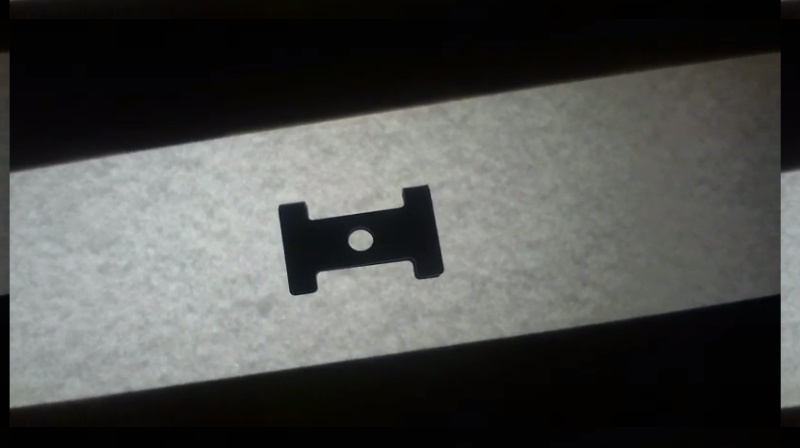O002: (275, 182, 446, 296)
